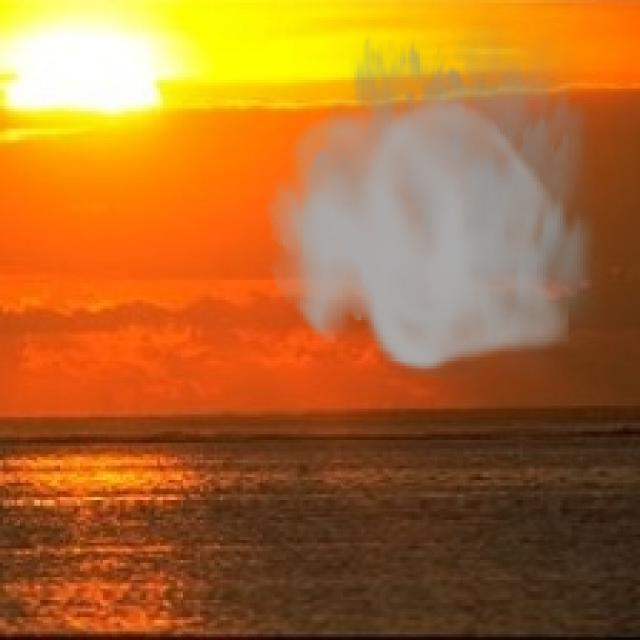Smoke: (266, 0, 614, 377)
